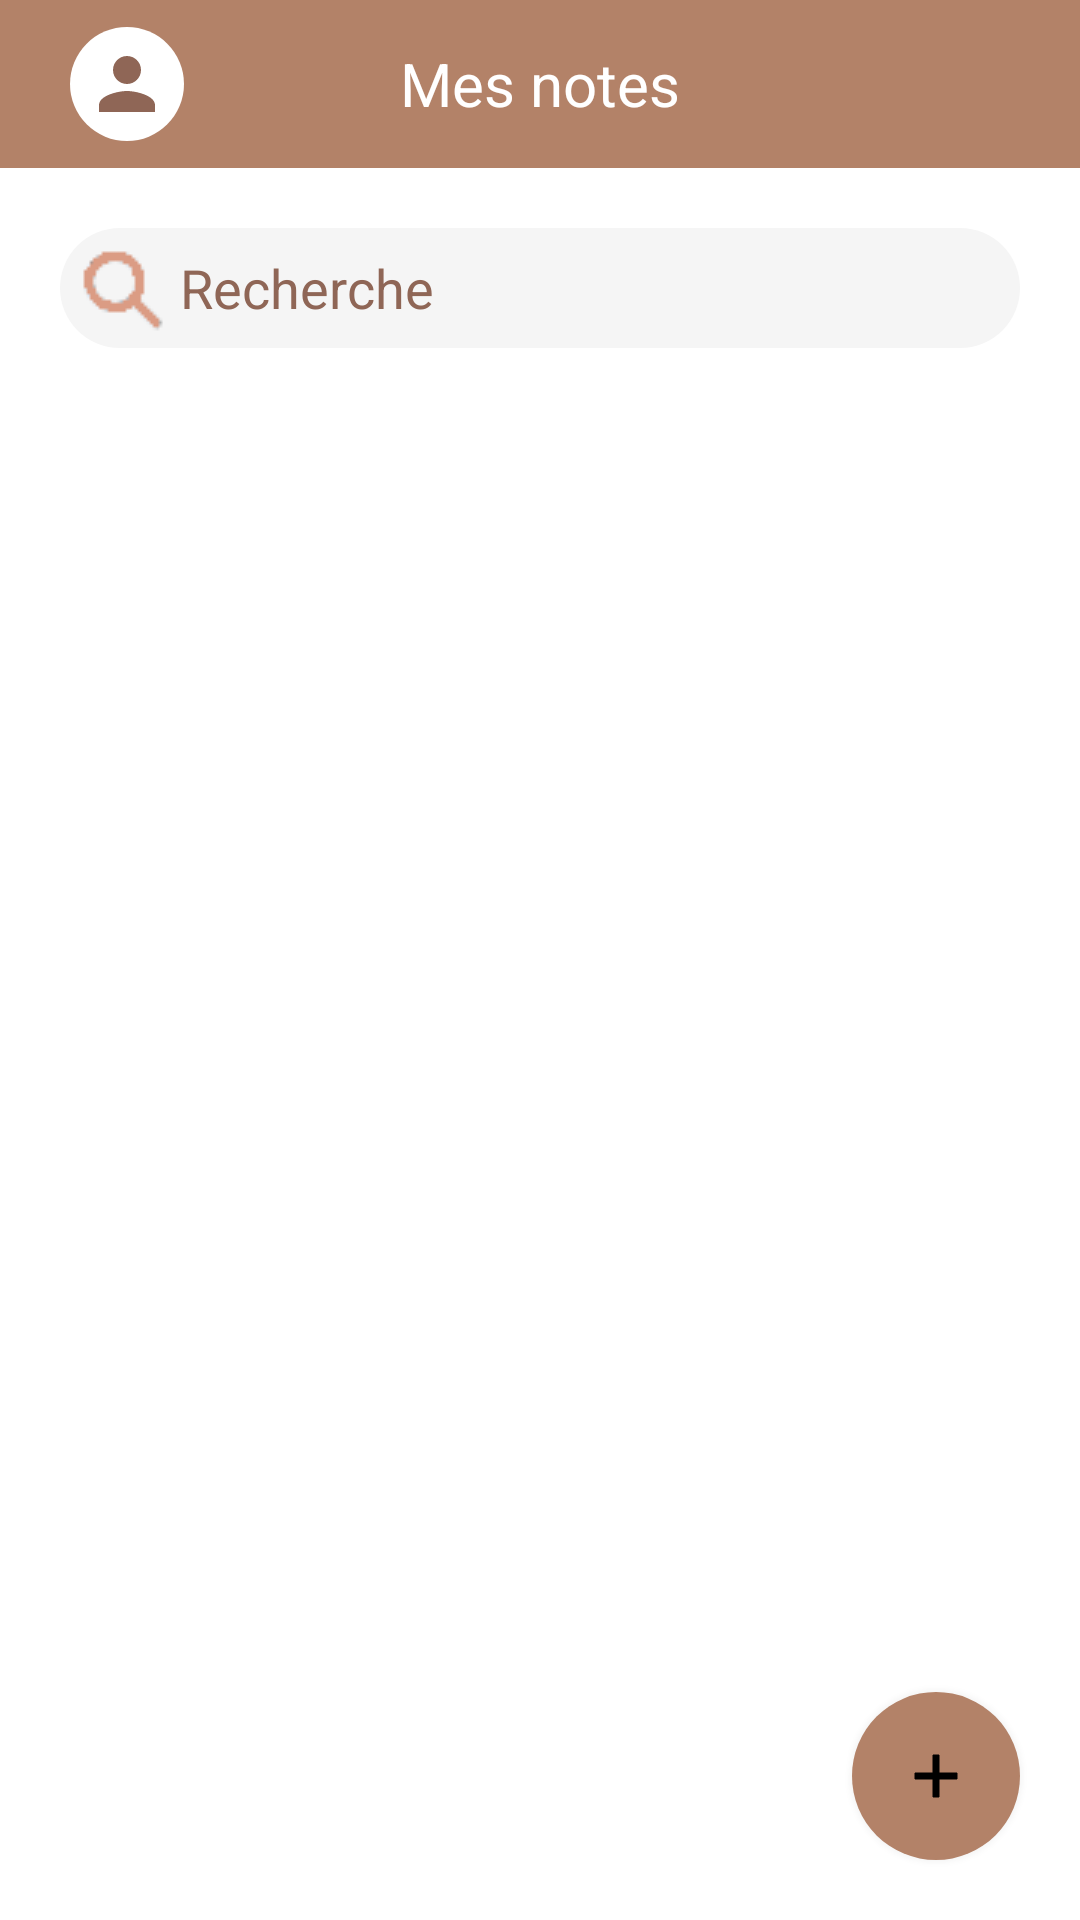

Icons on this 1080 x 1920 Android screen, each with its box as {"left": x1, "top": y1, "right": x2, "bottom": y2}:
Ajout: {"left": 852, "top": 1692, "right": 1020, "bottom": 1860}
person: {"left": 70, "top": 27, "right": 184, "bottom": 141}
